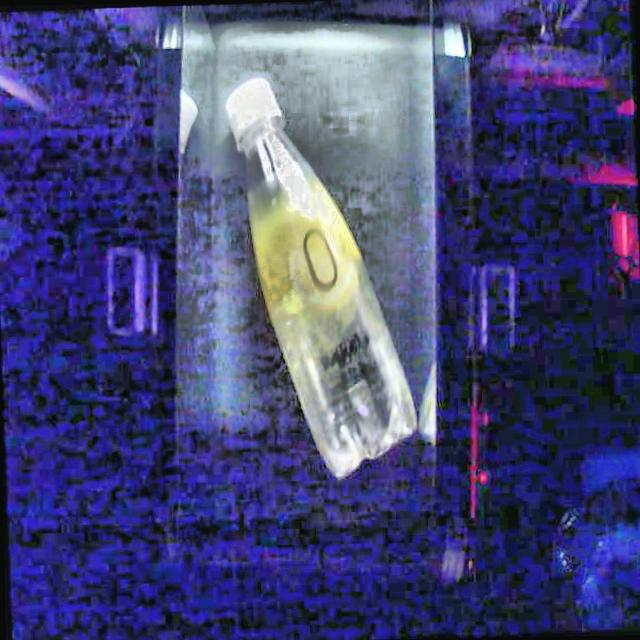plastic bottle: (225, 76, 418, 478)
